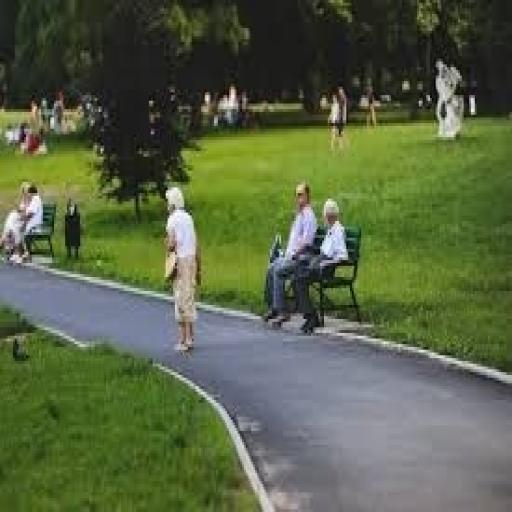sitting: (261, 176, 350, 333)
